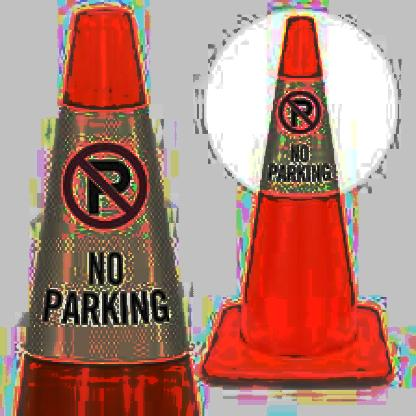No parking: (50, 143, 152, 230), (280, 90, 323, 132)
